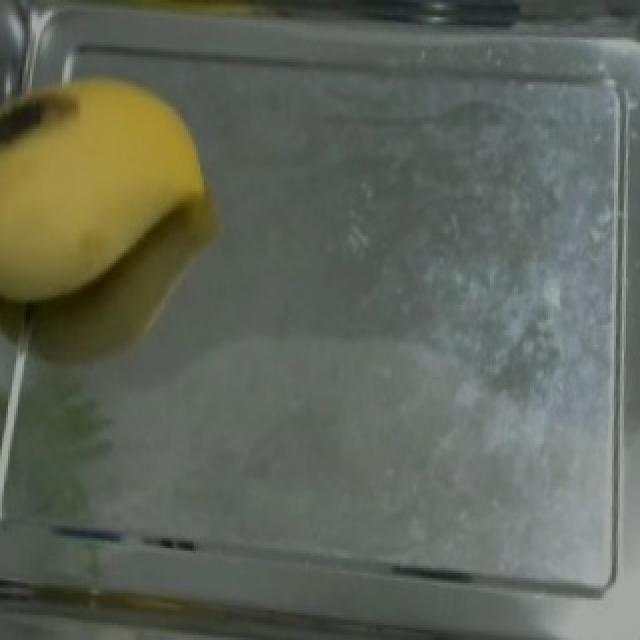fruit: (0, 55, 224, 332)
